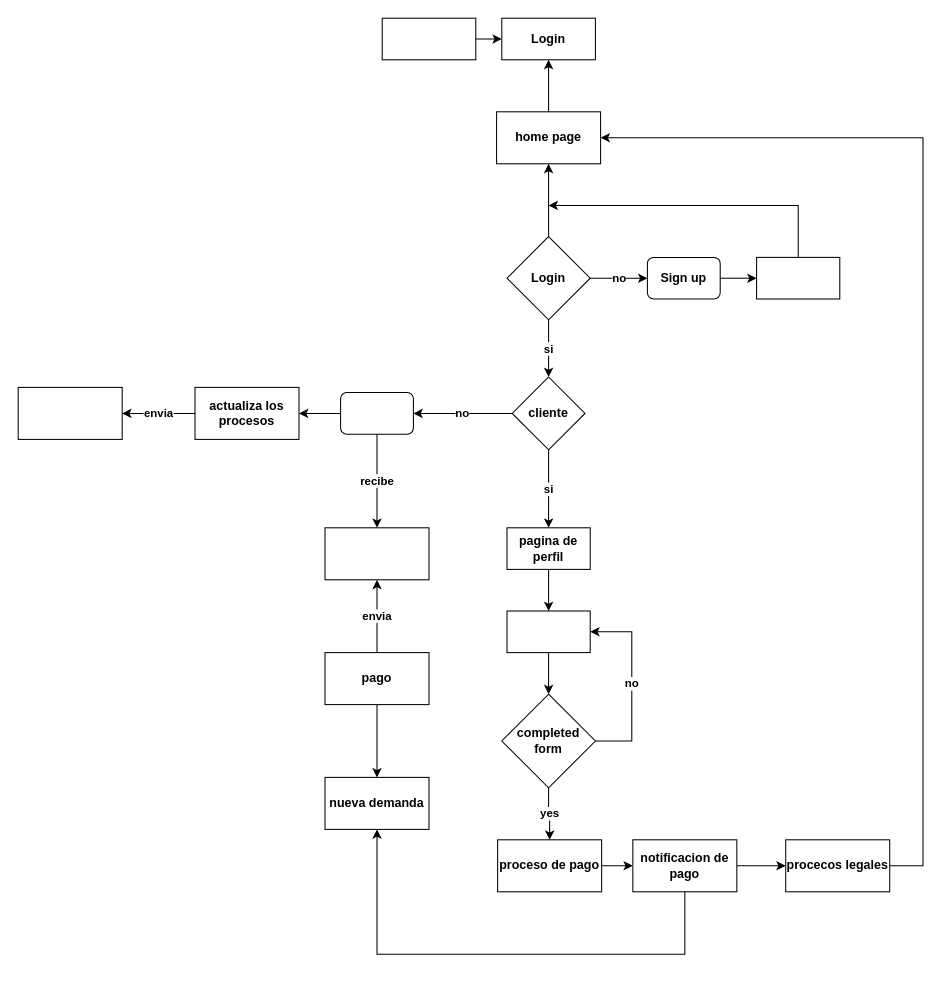
Image size: 950x981. Some labels were removed from this diagram. Here are the shapes that lost their labels. From the top down, the centre of each, then its label:
At (x=428, y=38): "User".
At (x=798, y=277): "formulario para cuenta nueva".
At (x=69, y=412): "el cliente es notificado por email".
At (x=376, y=413): "Admin".
At (x=376, y=553): "dashboard".
At (x=548, y=631): "formulario de datos".
